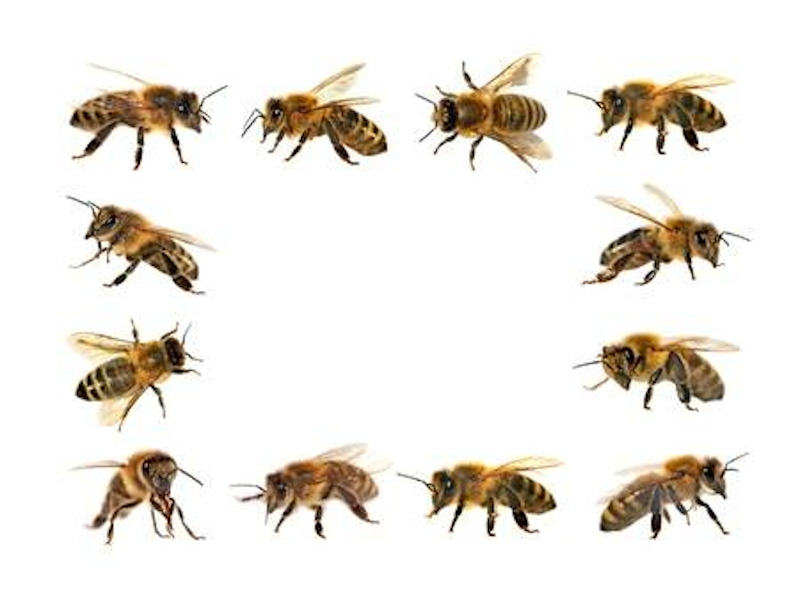abeja: (564, 179, 766, 298), (407, 44, 571, 186), (54, 51, 225, 178), (225, 433, 395, 553), (63, 312, 215, 446), (566, 321, 756, 424), (588, 444, 770, 551), (56, 192, 223, 306), (397, 443, 575, 548), (243, 53, 397, 174), (571, 62, 749, 164), (79, 450, 218, 561)
